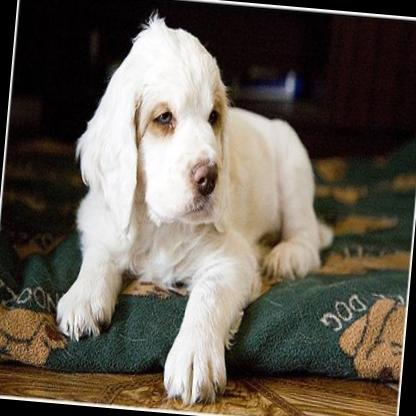clumber: (47, 2, 351, 416)
